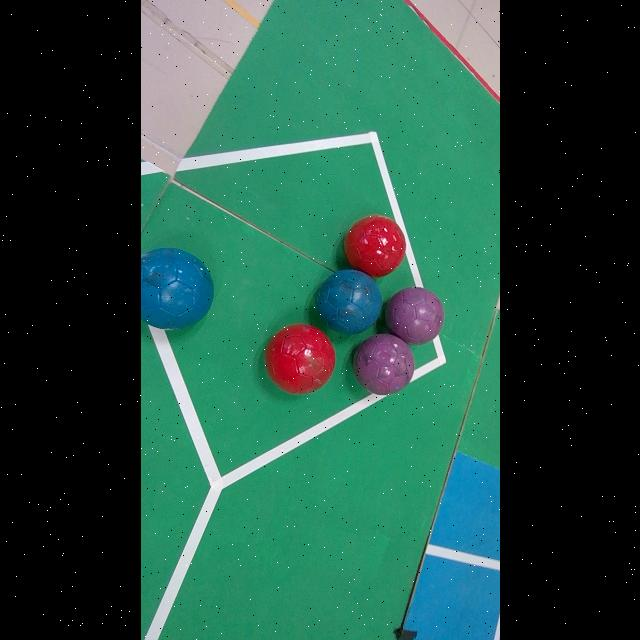B: (140, 248, 213, 329), (316, 270, 381, 335)
P: (353, 333, 414, 395), (384, 287, 445, 345)
R: (265, 324, 335, 394), (344, 215, 406, 277)
